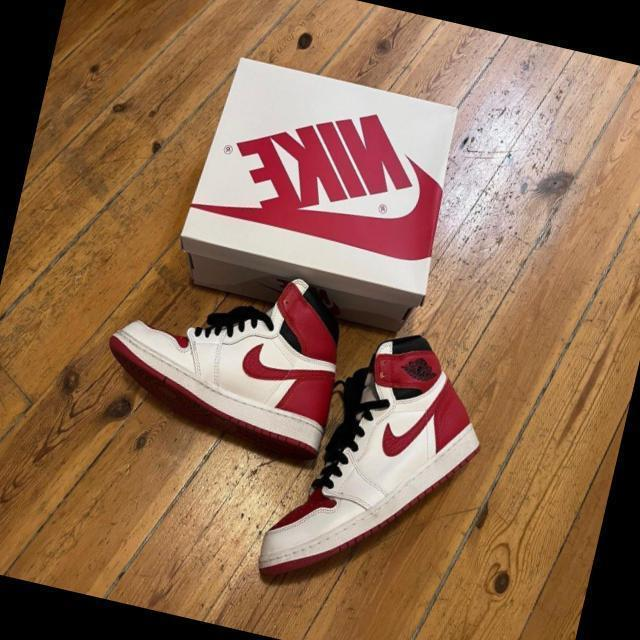nike original jordan 1: (250, 306, 502, 622), (88, 238, 358, 470)
